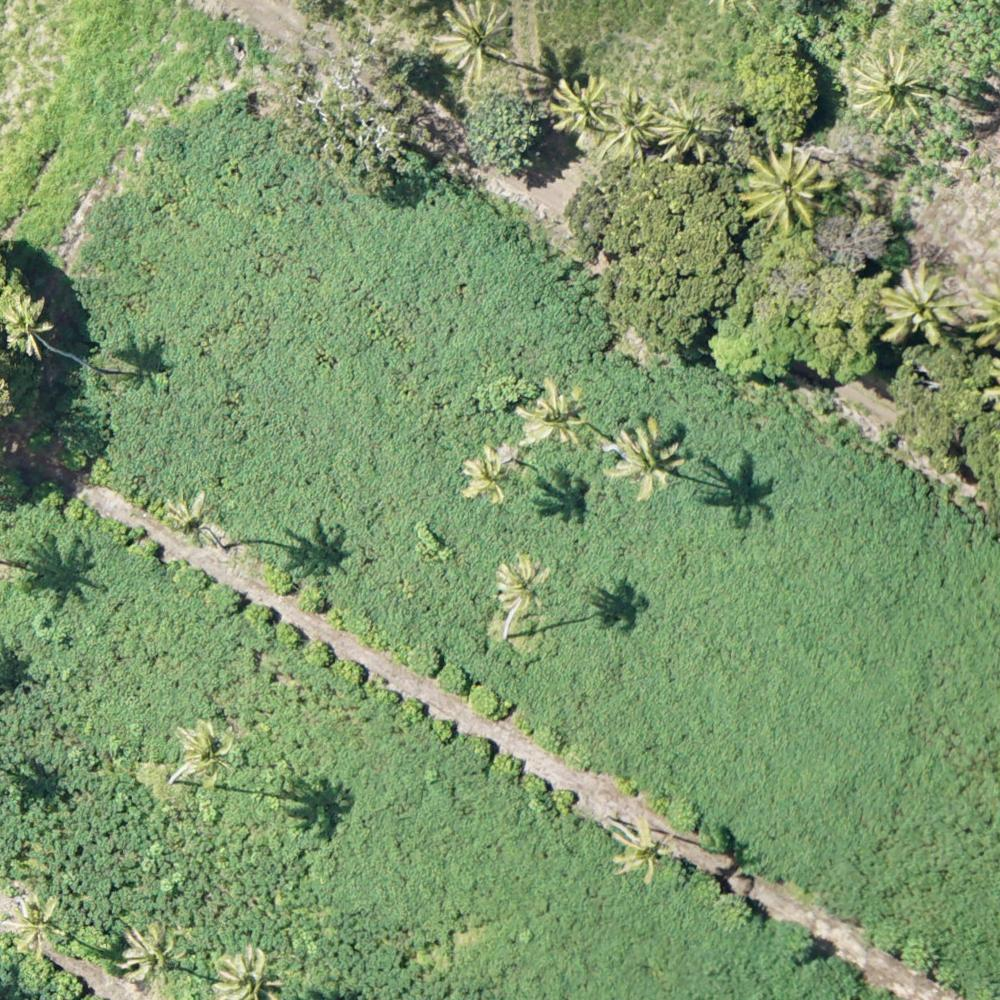Palm: (743, 147, 830, 232), (849, 46, 928, 127), (878, 266, 957, 344), (608, 418, 684, 495), (435, 2, 511, 73), (519, 379, 591, 448), (547, 72, 617, 140), (654, 94, 725, 158), (609, 816, 672, 881), (117, 922, 180, 983), (6, 893, 68, 952), (606, 89, 657, 156), (182, 719, 236, 780), (3, 291, 54, 355), (216, 950, 278, 1000), (493, 558, 550, 610), (461, 447, 514, 500), (165, 490, 215, 545)
